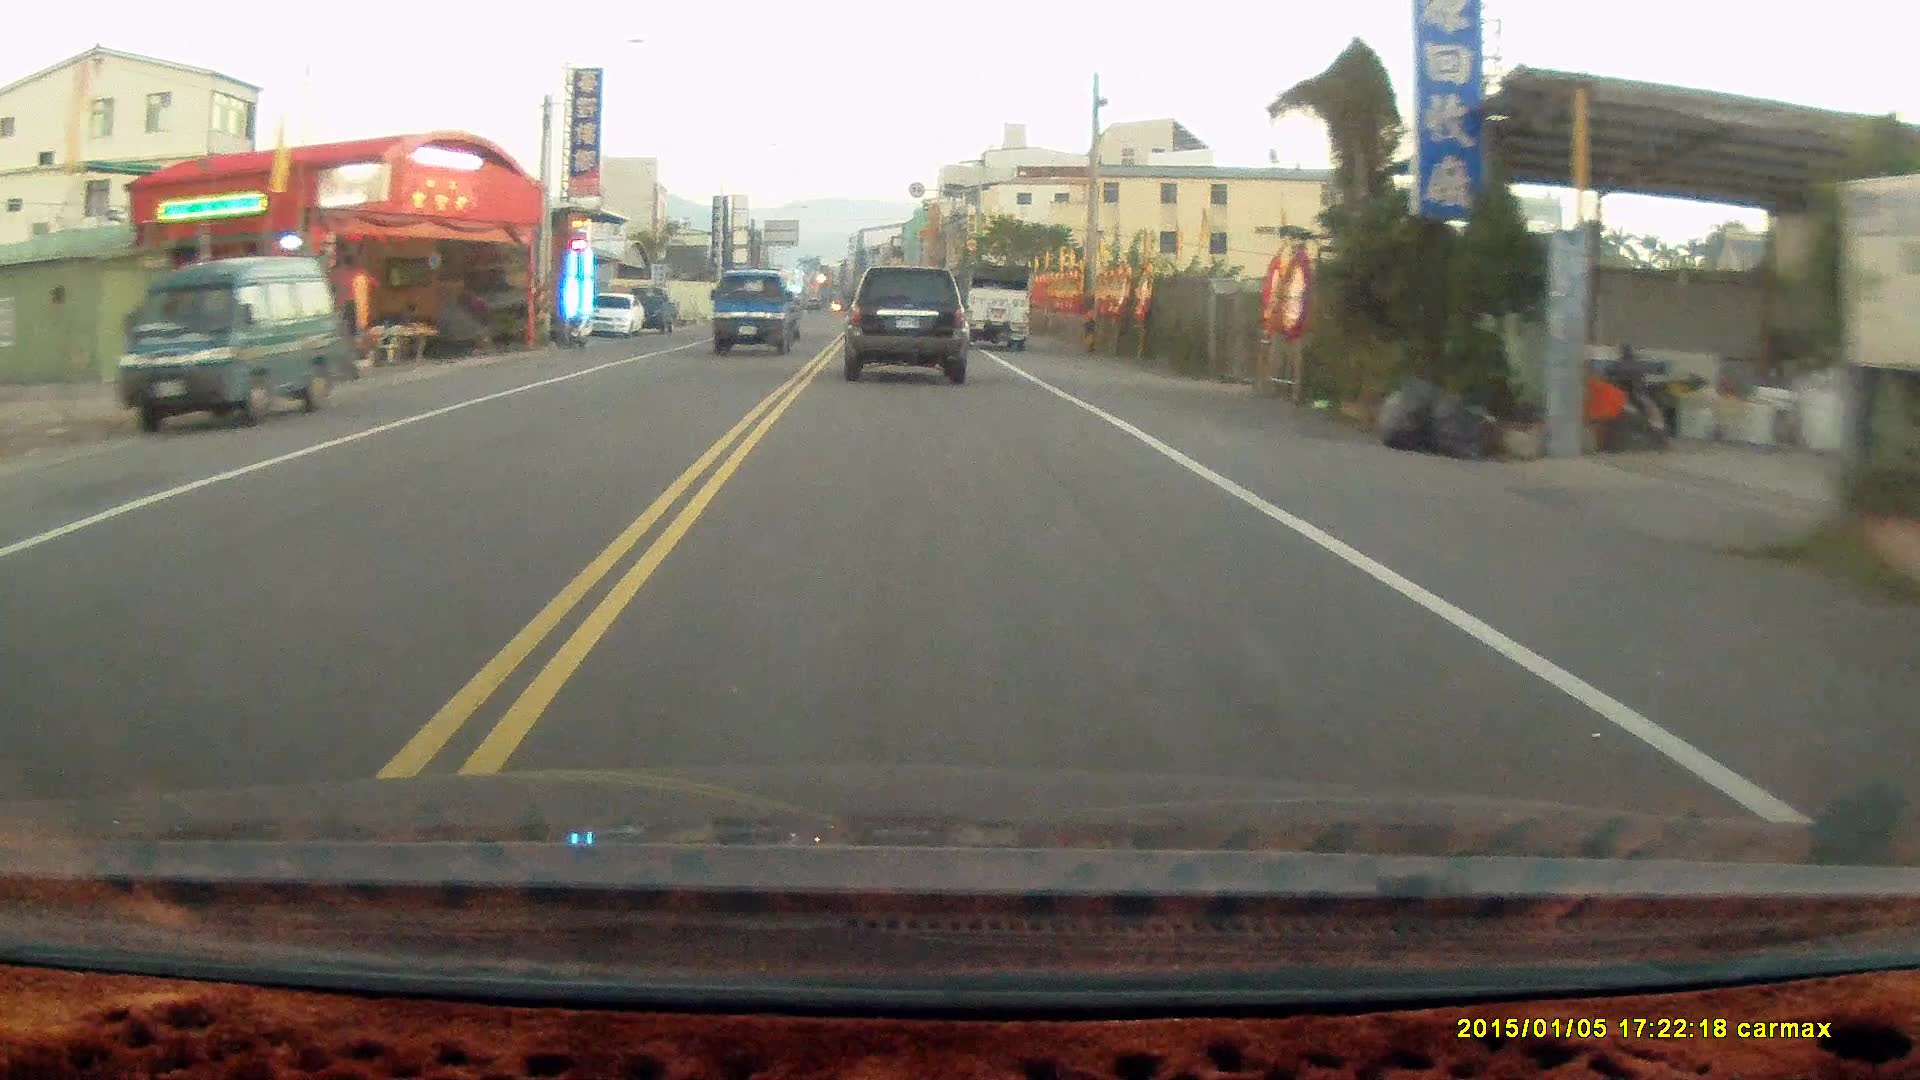vehicle: (123, 256, 338, 440), (845, 268, 971, 384), (938, 262, 1033, 352), (711, 269, 803, 359), (585, 293, 647, 338)
